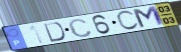1: (29, 25, 44, 44)
6: (91, 14, 112, 35)
C: (67, 17, 94, 38), (115, 10, 141, 31)
D: (43, 21, 67, 43)
M: (131, 5, 167, 30)
